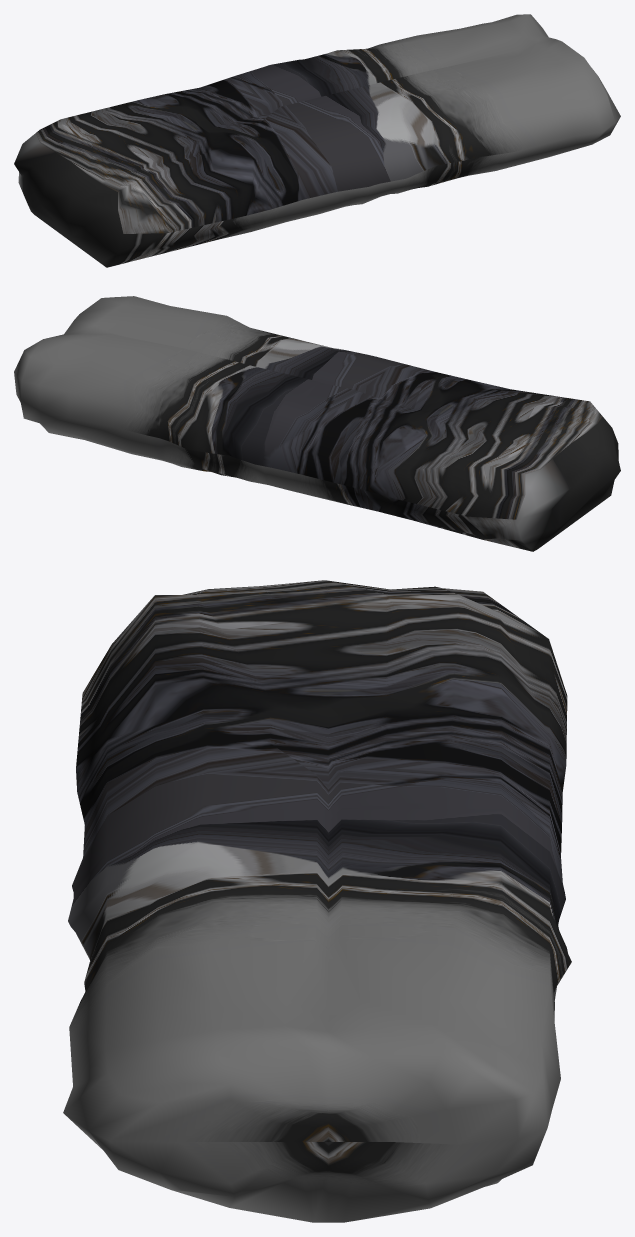
Rendered from sword_targets_V2.FBX.
3 views of the same model, one above another, from view 1: azimuth 30°, elevation 25°; view 2: azimuth 150°, elevation 25°; view 3: azimuth 270°, elevation 25° (orthographic). The views are drawn at different scales.
Visible parts, largest first — view 1: sword_ingot; view 2: sword_ingot; view 3: sword_ingot.
Boxes of the visible parts, x1=… form: sword_ingot: x1=14, y1=14, x2=620, y2=267; sword_ingot: x1=14, y1=296, x2=620, y2=551; sword_ingot: x1=63, y1=580, x2=571, y2=1222.
Size of the model in its own units: 33.02 by 13.8 by 5.28.
